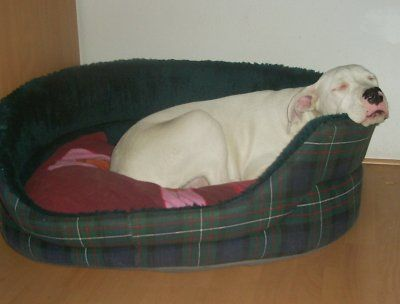dogo_argentino: (111, 62, 390, 189)
